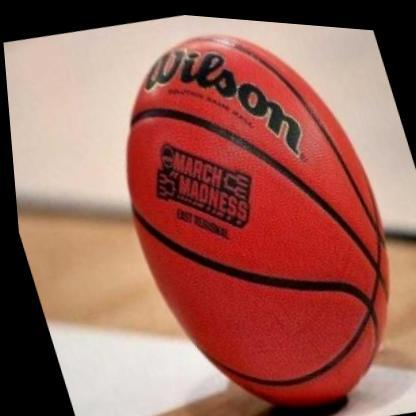basketball: (70, 4, 416, 416)
